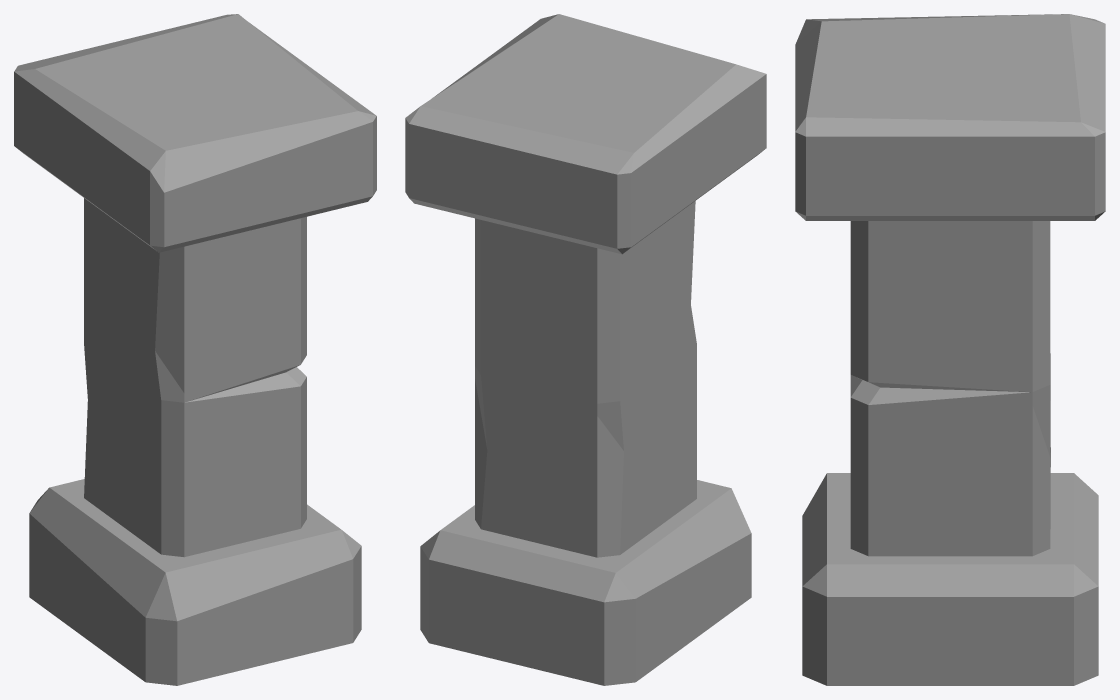
The model's file is Isl_1_Post_1.fbx.
3 views of the same model, side by side, from view 1: azimuth 30°, elevation 25°; view 2: azimuth 150°, elevation 25°; view 3: azimuth 270°, elevation 25° (orthographic). The views are drawn at different scales.
Visible parts, largest first — view 1: Isl_1_Post_1; view 2: Isl_1_Post_1; view 3: Isl_1_Post_1.
Boxes of the visible parts, x1,y1,x2,y2 form: Isl_1_Post_1: (14,14,376,685); Isl_1_Post_1: (405,14,766,685); Isl_1_Post_1: (795,14,1105,685).
Bounding box in the file's own units: 111 × 124 × 247.
Materials: 1 (1 with a texture image).
